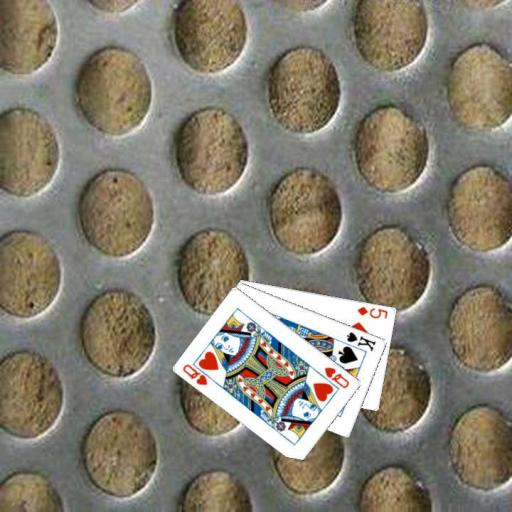5D: (354, 303, 389, 320)
KS: (344, 329, 378, 353)
QH: (180, 360, 217, 387), (322, 364, 352, 390)
